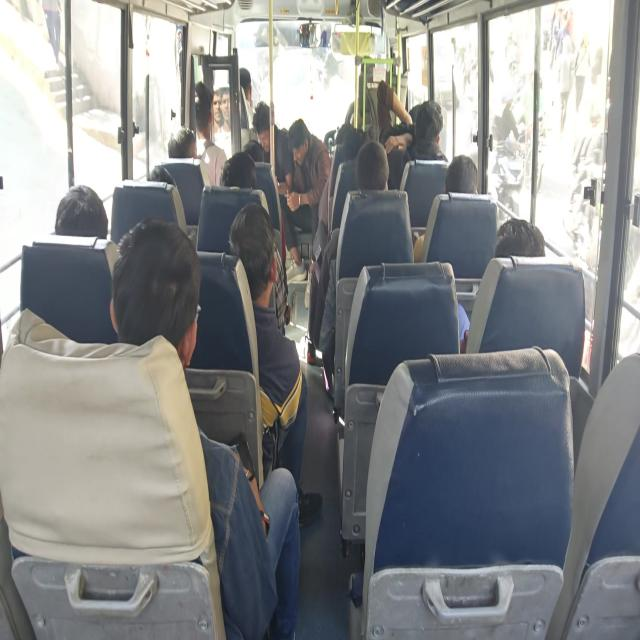person: (109, 216, 301, 638), (228, 201, 322, 528), (318, 140, 390, 396), (457, 217, 545, 352), (252, 100, 307, 281), (412, 154, 478, 262), (284, 118, 331, 234), (252, 100, 294, 192), (193, 81, 228, 186), (54, 183, 109, 239), (405, 100, 448, 162), (495, 217, 545, 258), (219, 151, 257, 188), (444, 154, 478, 194), (167, 126, 197, 158), (239, 66, 254, 129), (219, 86, 231, 132), (212, 90, 222, 134)
